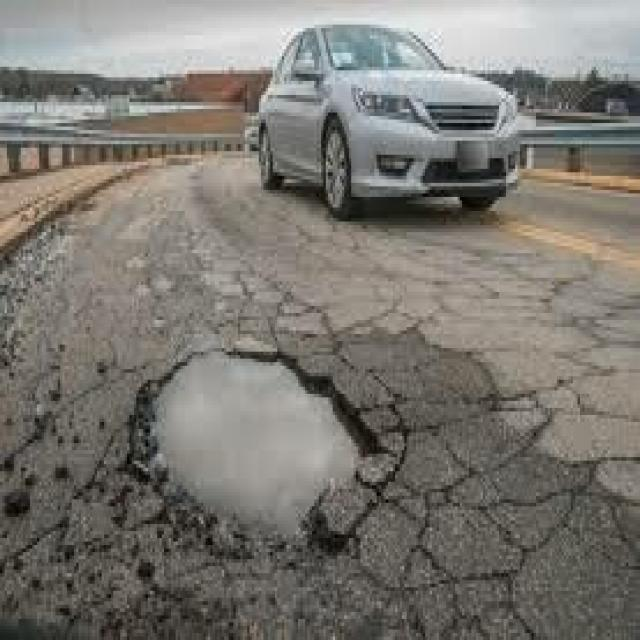Pothole: (120, 327, 391, 601)
